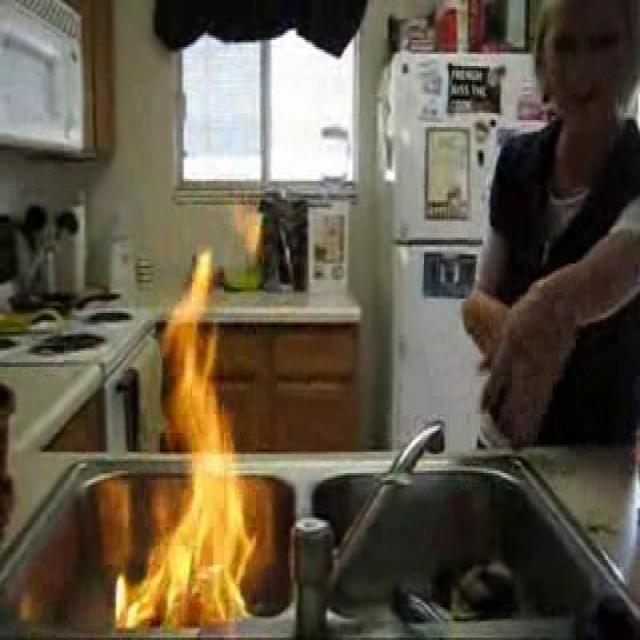Fire: (128, 272, 252, 614)
